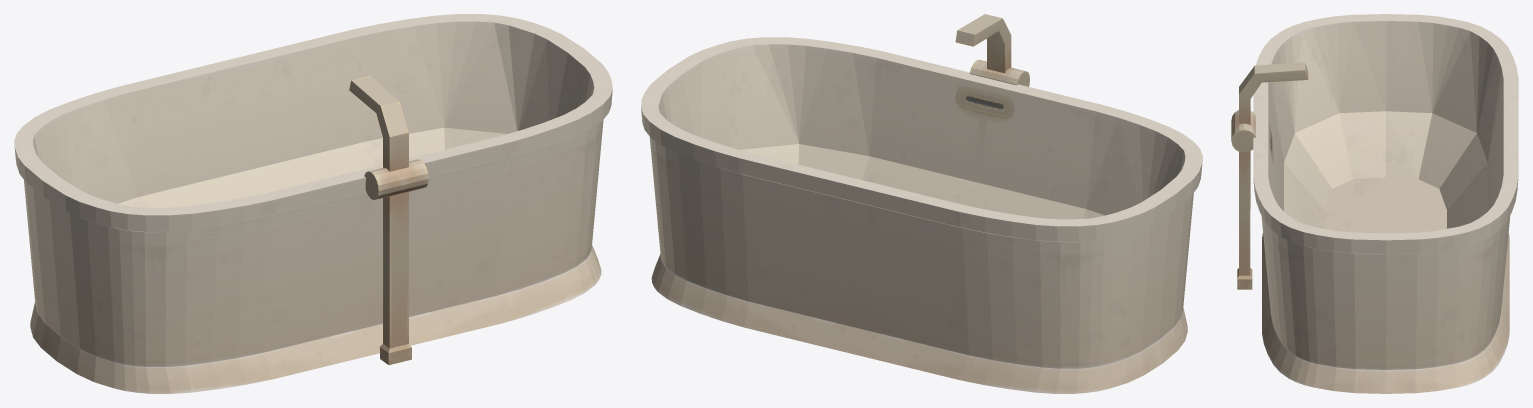
Rendered from P_Bathtub_001_S1_M01.obj.
3 renders of one model, left to right at view 1: azimuth 30°, elevation 25°; view 2: azimuth 150°, elevation 25°; view 3: azimuth 270°, elevation 25°, orthographic. The views are drawn at different scales.
Size of the model in its own units: 2 by 0.9016 by 1.07.
Materials: 1 (1 with a texture image).
